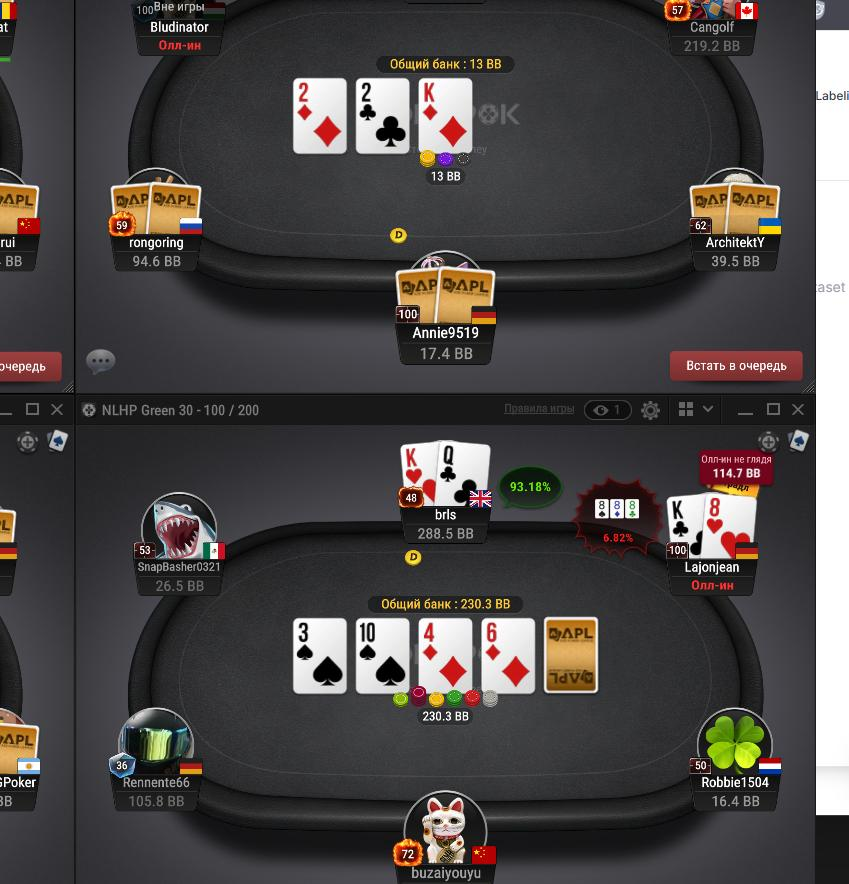10s: (355, 617, 410, 695)
2c: (357, 80, 409, 152)
2d: (295, 78, 347, 152)
3s: (295, 619, 346, 693)
4d: (419, 619, 471, 692)
6d: (482, 619, 533, 691)
8h: (704, 491, 758, 559)
Kc: (666, 494, 704, 561)
Kd: (418, 80, 472, 154)
Kh: (399, 440, 439, 507)
Qc: (439, 441, 490, 511)
